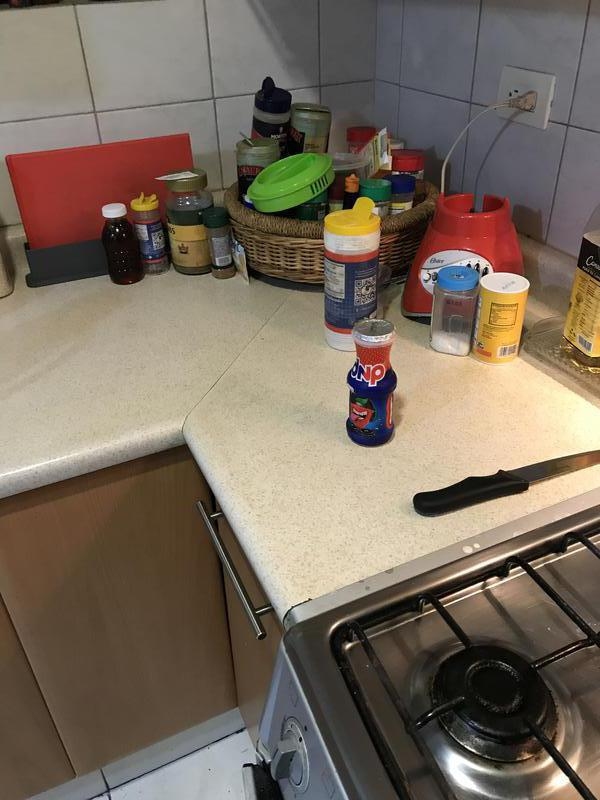danup: (345, 319, 397, 450)
